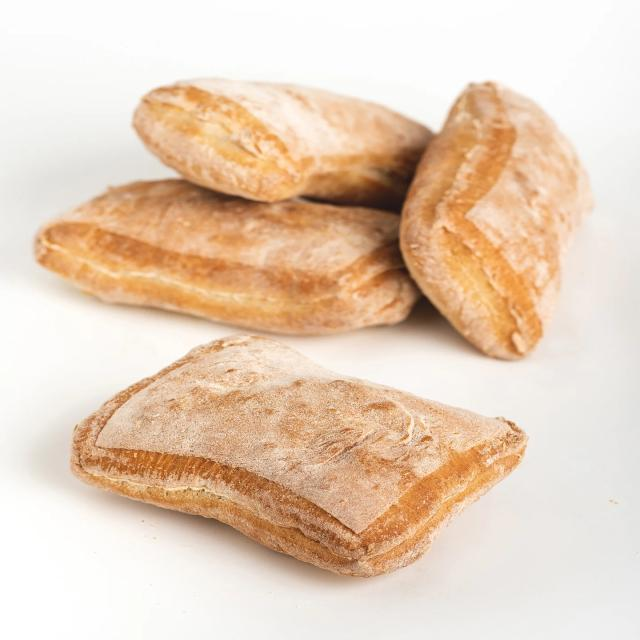Ciabatta: (71, 336, 527, 576), (35, 180, 418, 335), (400, 82, 592, 359), (133, 79, 433, 210)
